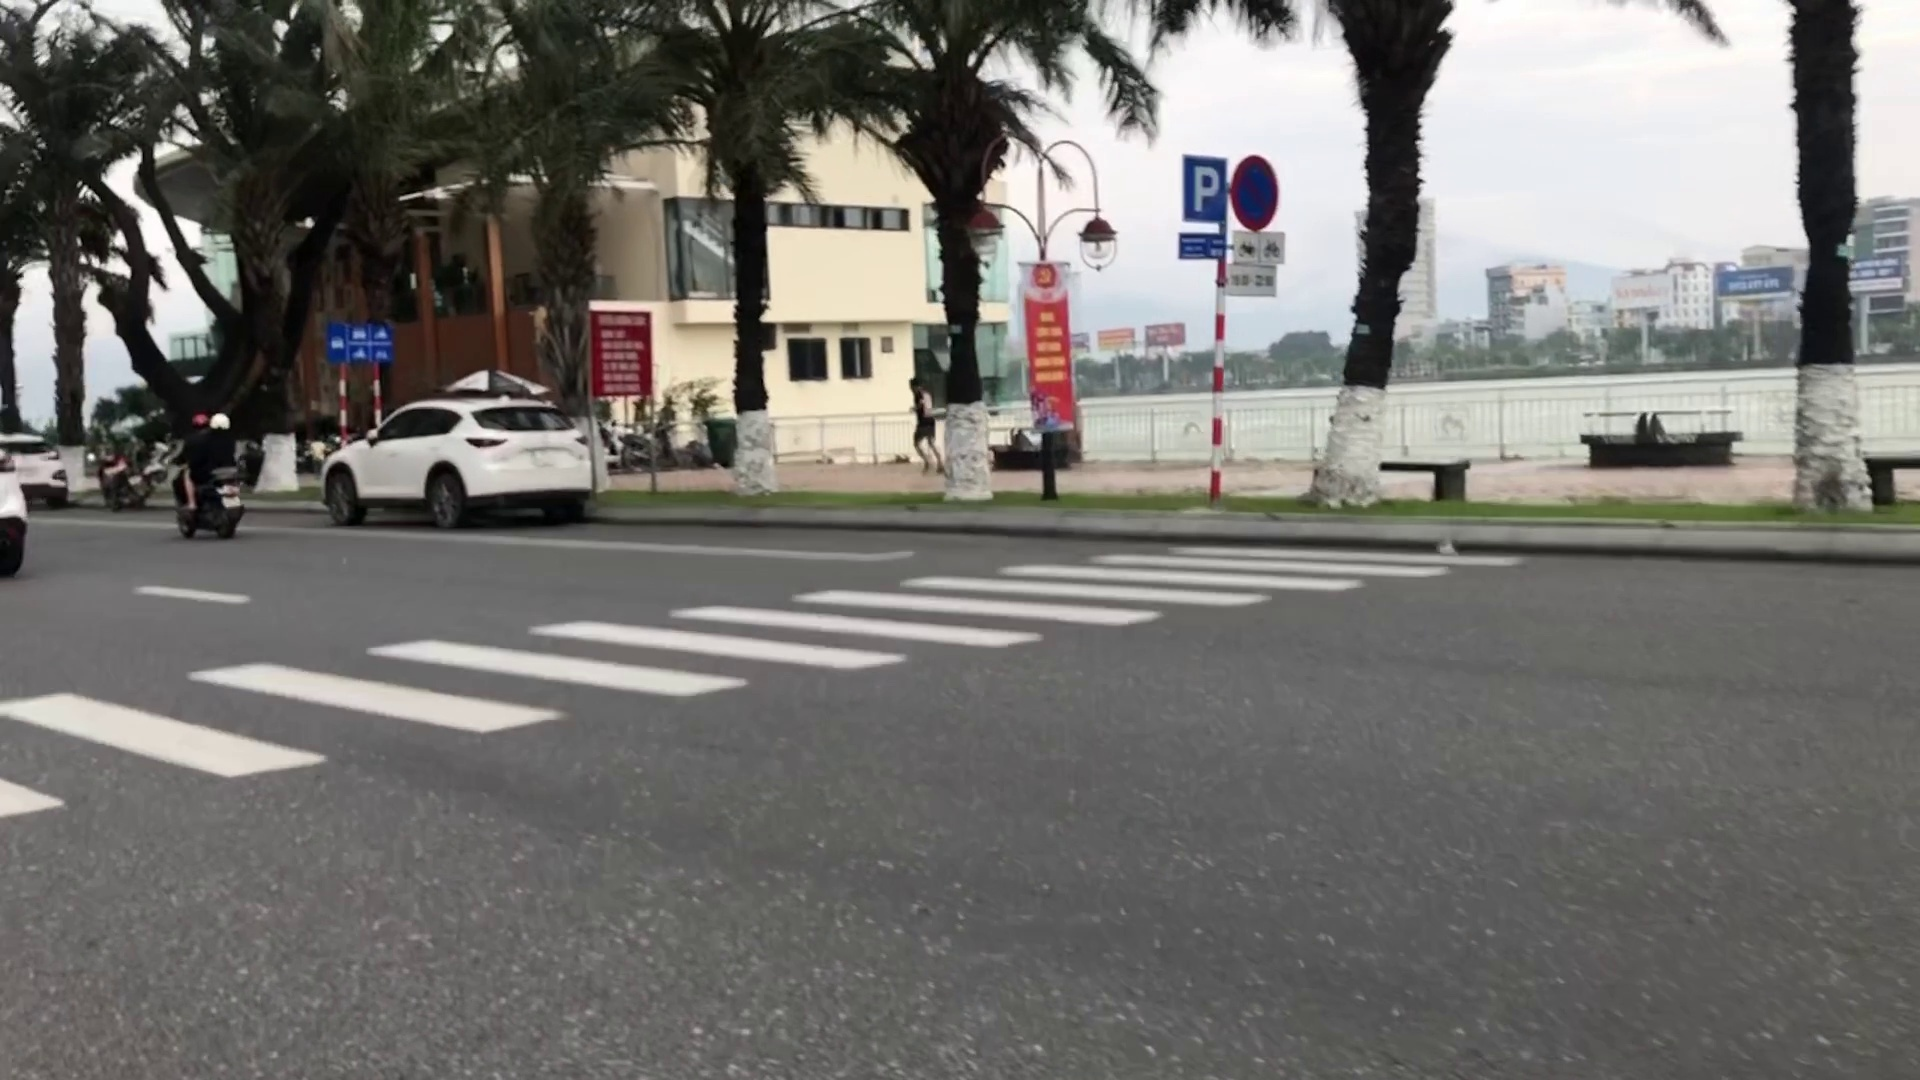Bien khac: (1179, 154, 1228, 228)
Cam do xe: (1232, 153, 1280, 233)
